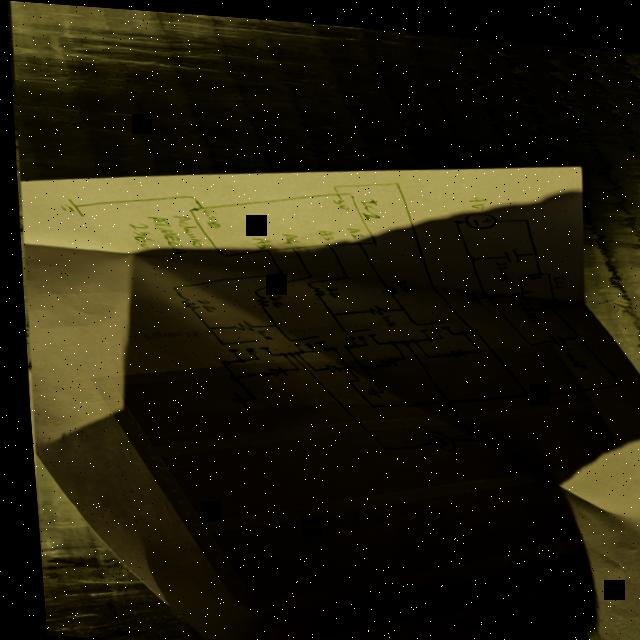capacitor: (499, 240, 518, 255), (543, 324, 562, 337)
crossover: (436, 391, 446, 398)
diode: (373, 350, 392, 363), (263, 361, 282, 373), (444, 341, 462, 352), (318, 359, 337, 368)
ground: (55, 197, 80, 216), (223, 388, 244, 405), (459, 283, 478, 298), (360, 380, 375, 392)
junction: (478, 284, 489, 293), (223, 370, 236, 377), (516, 382, 528, 389), (608, 370, 620, 377), (373, 438, 384, 445), (463, 428, 474, 435), (323, 340, 334, 347), (463, 320, 473, 327), (449, 211, 459, 218), (353, 358, 362, 365), (214, 356, 224, 362), (185, 191, 195, 197), (389, 174, 399, 180), (468, 341, 479, 346), (338, 359, 347, 365), (571, 325, 579, 331), (383, 333, 391, 339), (337, 339, 345, 345), (454, 322, 462, 328), (464, 249, 473, 254), (287, 362, 296, 367), (404, 331, 413, 336), (394, 300, 402, 305), (266, 318, 274, 323), (325, 306, 333, 311), (165, 282, 173, 287), (200, 322, 208, 327), (363, 398, 371, 403), (272, 265, 280, 270), (302, 268, 310, 273), (301, 276, 309, 281), (518, 210, 527, 214), (527, 243, 536, 247), (419, 348, 428, 352), (338, 268, 345, 273), (523, 333, 530, 338), (394, 349, 402, 353), (329, 179, 337, 183), (307, 363, 313, 368), (396, 334, 403, 338), (245, 393, 252, 397), (350, 372, 356, 376), (341, 373, 347, 377), (274, 348, 281, 351), (283, 347, 288, 351), (288, 346, 293, 349), (374, 383, 378, 386)
resistor: (173, 295, 196, 308), (227, 317, 249, 328), (361, 298, 382, 309), (306, 280, 321, 293), (377, 279, 394, 290), (250, 291, 265, 303)
source: (460, 203, 495, 222)
text: (143, 212, 182, 252), (175, 211, 200, 244), (554, 337, 584, 361), (125, 219, 148, 245), (356, 191, 379, 215), (511, 293, 536, 315), (491, 252, 508, 276), (201, 207, 220, 226), (464, 187, 486, 202), (275, 227, 298, 241), (246, 232, 269, 245), (190, 295, 212, 308), (388, 272, 405, 287), (341, 221, 360, 234), (313, 224, 332, 236), (264, 289, 279, 304), (329, 192, 346, 205), (548, 266, 562, 280), (322, 280, 336, 293), (377, 308, 391, 321), (251, 325, 268, 335), (521, 264, 539, 273), (517, 281, 530, 288), (536, 292, 547, 299)
transistor: (214, 332, 269, 360), (409, 311, 451, 337), (337, 320, 374, 344), (284, 326, 321, 350)
